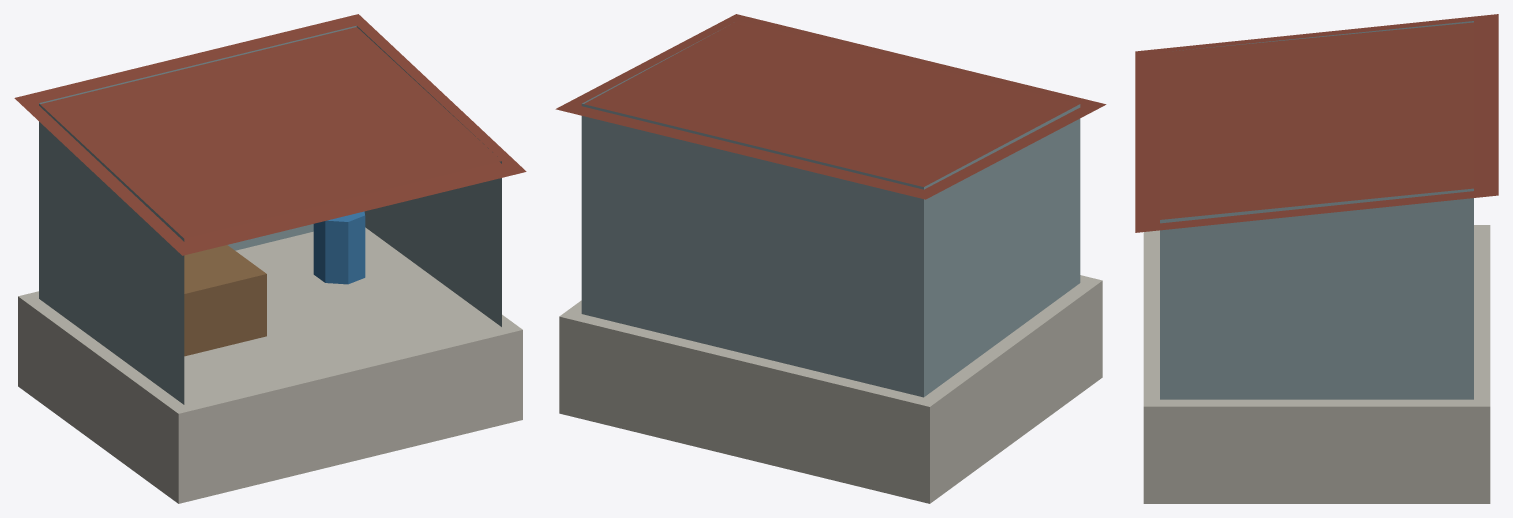
File: shed.glb
3 renders of one model, left to right at view 1: azimuth 30°, elevation 25°; view 2: azimuth 150°, elevation 25°; view 3: azimuth 270°, elevation 25°, orthographic. The views are drawn at different scales.
Parts seen in each view (by area): view 1: shed; view 2: shed; view 3: shed.
Boxes of the visible parts, <box> form: shed: <box>14,14,526,503</box>; shed: <box>555,14,1106,503</box>; shed: <box>1135,14,1498,503</box>.
Size of the model in its own units: 5.2 by 4.12 by 4.4.
